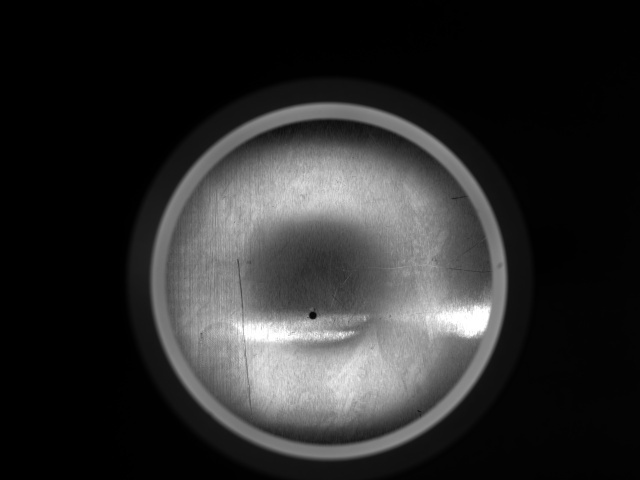ca_shang: (231, 257, 255, 424)
zhen_kong: (308, 306, 319, 322)
